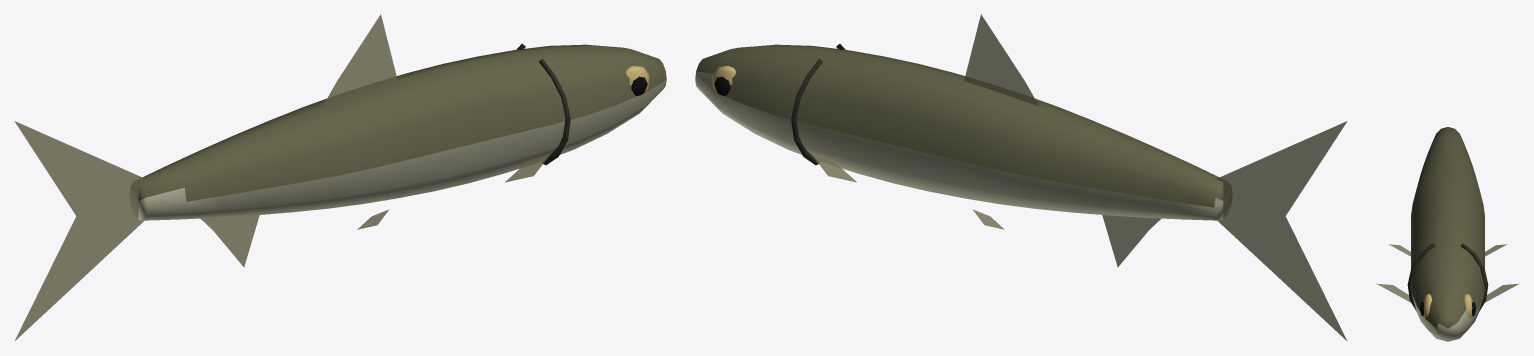
Rendered from lake-amur-white-shallows-0.glb.
3 views of the same model, side by side, from view 1: azimuth 30°, elevation 25°; view 2: azimuth 150°, elevation 25°; view 3: azimuth 270°, elevation 25° (orthographic). The views are drawn at different scales.
Parts seen in each view (by area): view 1: lake-amur-white-shallows-0; view 2: lake-amur-white-shallows-0; view 3: lake-amur-white-shallows-0.
Boxes of the visible parts, x1,y1,x2,y2 form: lake-amur-white-shallows-0: (14,14,666,341); lake-amur-white-shallows-0: (695,14,1347,341); lake-amur-white-shallows-0: (1376,127,1519,341).
Size of the model in its own units: 0.8304 by 0.2933 by 0.2166.
